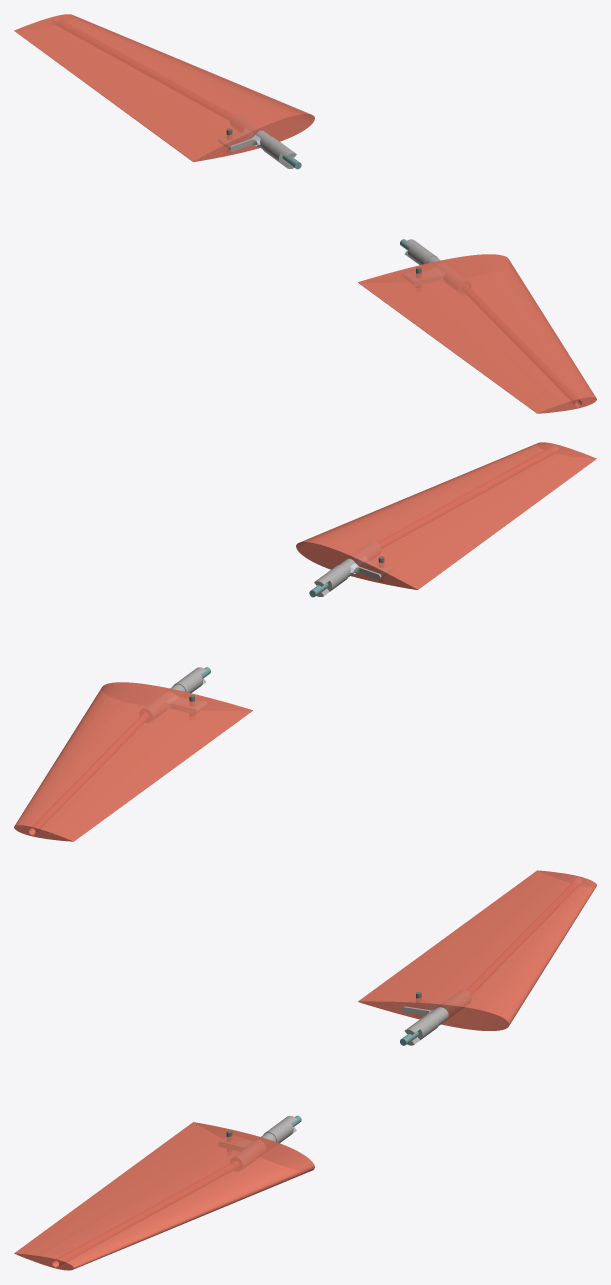
Rendered from horizontal.dae.
3 views of the same model, one above another, from view 1: azimuth 30°, elevation 25°; view 2: azimuth 150°, elevation 25°; view 3: azimuth 330°, elevation 25° (orthographic).
Visible parts, largest first — view 1: Shape_IndexedFaceSet_009, Shape_IndexedFaceSet_015, Shape_IndexedFaceSet_014, Shape_IndexedFaceSet_008; view 2: Shape_IndexedFaceSet_015, Shape_IndexedFaceSet_009, Shape_IndexedFaceSet_008, Shape_IndexedFaceSet_014; view 3: Shape_IndexedFaceSet_009, Shape_IndexedFaceSet_015, Shape_IndexedFaceSet_014, Shape_IndexedFaceSet_008.
Part boxes in pixels (x1,y1,x2,y2): Shape_IndexedFaceSet_009: (358, 254, 596, 413); Shape_IndexedFaceSet_015: (14, 14, 314, 161); Shape_IndexedFaceSet_014: (230, 114, 296, 168); Shape_IndexedFaceSet_008: (404, 239, 468, 293); Shape_IndexedFaceSet_015: (14, 682, 252, 841); Shape_IndexedFaceSet_009: (296, 442, 596, 589); Shape_IndexedFaceSet_008: (314, 542, 380, 596); Shape_IndexedFaceSet_014: (145, 667, 206, 721); Shape_IndexedFaceSet_009: (14, 1122, 314, 1270); Shape_IndexedFaceSet_015: (358, 870, 596, 1030); Shape_IndexedFaceSet_014: (404, 990, 470, 1045); Shape_IndexedFaceSet_008: (230, 1116, 296, 1170).
Size of the model in its own units: 0.0877 by 0.5819 by 0.0143.
